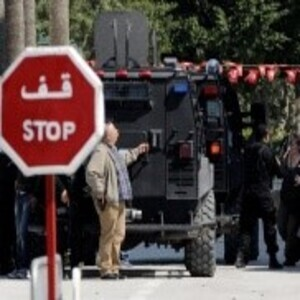stop: (1, 46, 103, 177)
